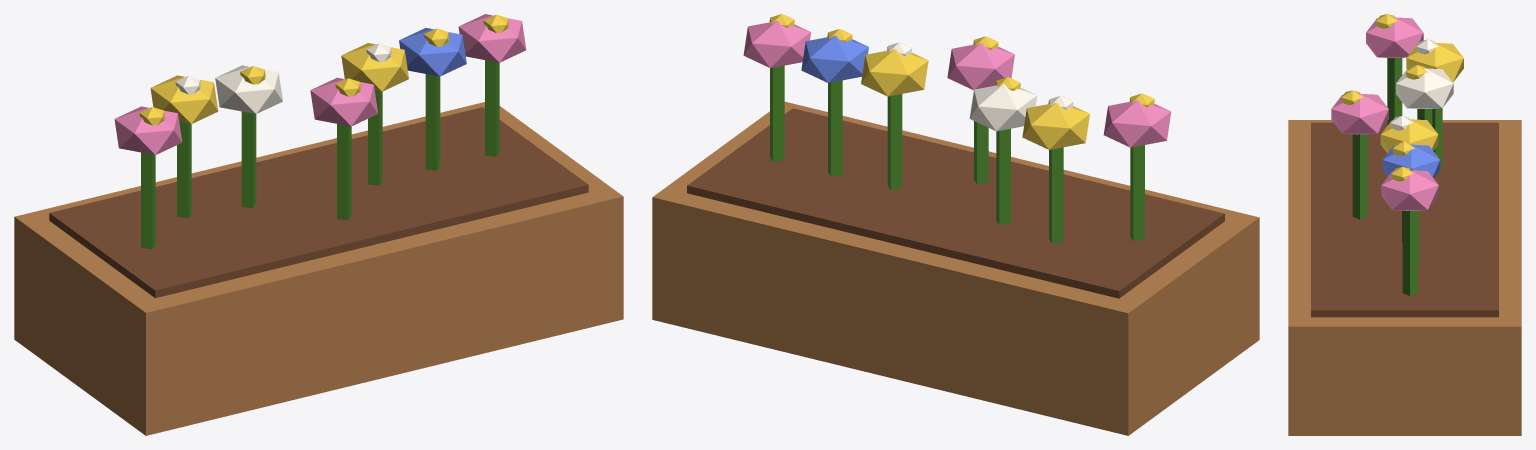
Rendered from flower_bed.glb.
The picture shows the model from 3 angles, left to right: view 1: azimuth 30°, elevation 25°; view 2: azimuth 150°, elevation 25°; view 3: azimuth 270°, elevation 25°; orthographic projection. The views are drawn at different scales.
Visible parts, largest first — view 1: flower_bed; view 2: flower_bed; view 3: flower_bed.
Boxes of the visible parts, x1=… form: flower_bed: x1=14, y1=14, x2=623, y2=435; flower_bed: x1=652, y1=14, x2=1259, y2=435; flower_bed: x1=1288, y1=14, x2=1521, y2=435.
Size of the model in its own units: 1.3 by 0.71 by 0.62.
